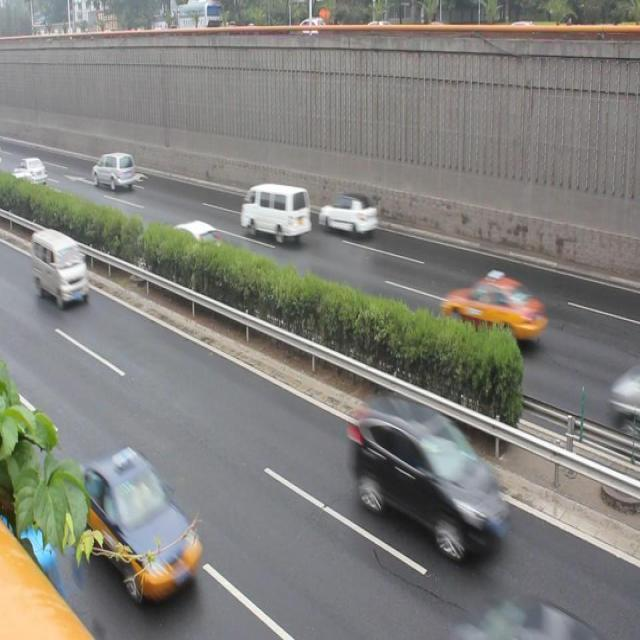car: (346, 390, 509, 559), (82, 446, 206, 605), (441, 265, 543, 345), (168, 214, 227, 264), (320, 185, 374, 239)
truck: (32, 224, 90, 313), (239, 178, 310, 242)
